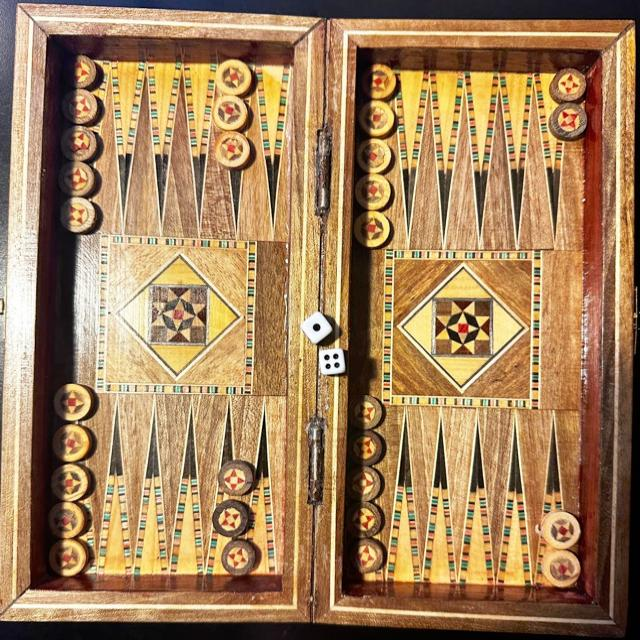bar: (286, 48, 349, 596)
board: (21, 26, 615, 614)
dark_p: (58, 46, 106, 90), (53, 195, 102, 237), (208, 496, 256, 538), (544, 99, 592, 141), (217, 536, 263, 579), (54, 161, 106, 198), (56, 122, 104, 162), (55, 84, 103, 124), (343, 532, 386, 576), (547, 65, 593, 104), (344, 428, 386, 470), (343, 499, 386, 540), (214, 454, 254, 498), (342, 464, 384, 504), (347, 392, 388, 432)
dice: (297, 308, 338, 349), (315, 346, 348, 378)
light_p: (538, 546, 586, 593), (44, 537, 92, 580), (537, 508, 583, 552), (42, 498, 92, 538), (52, 378, 94, 424), (50, 421, 94, 464), (350, 209, 395, 251), (208, 94, 255, 134), (212, 54, 255, 97), (212, 130, 255, 172), (357, 97, 400, 139), (50, 464, 95, 504), (356, 62, 403, 99), (356, 135, 396, 177), (352, 172, 397, 209)
